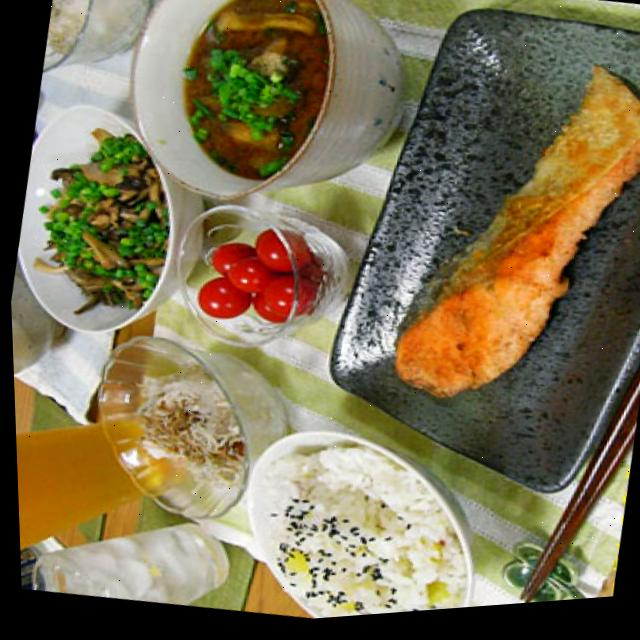熟制海鲜: (350, 44, 640, 435)
